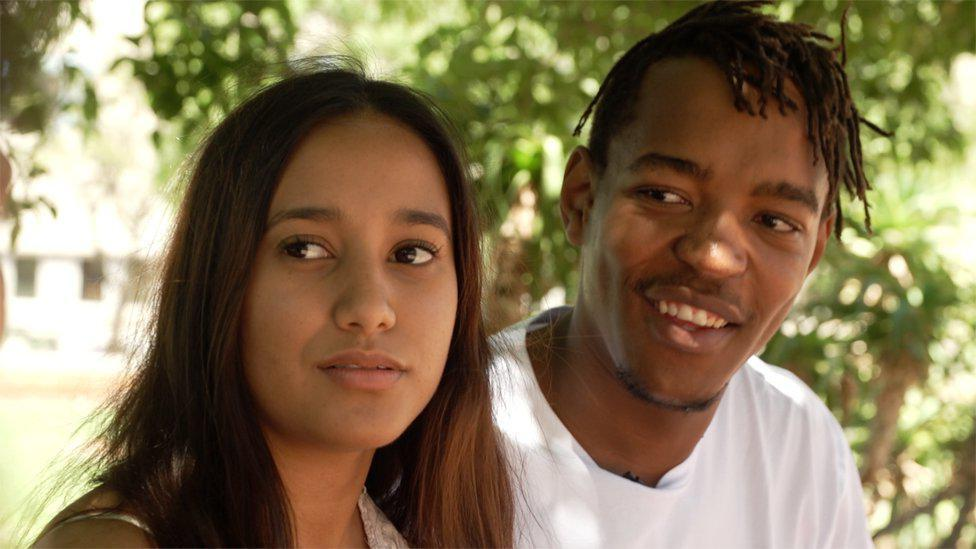Sober: (253, 124, 454, 431), (609, 88, 798, 384)
